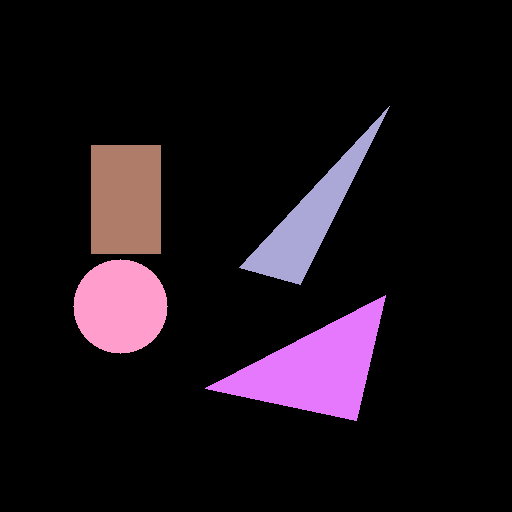circle: (73, 259, 167, 353)
rectangle: (91, 145, 160, 253)
triangle: (239, 106, 389, 284), (205, 295, 385, 420)
